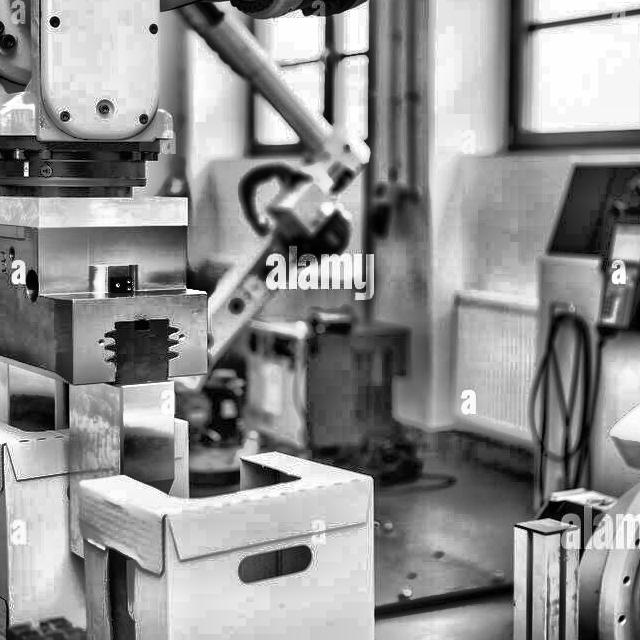robot: (0, 0, 640, 640), (131, 0, 335, 506)
